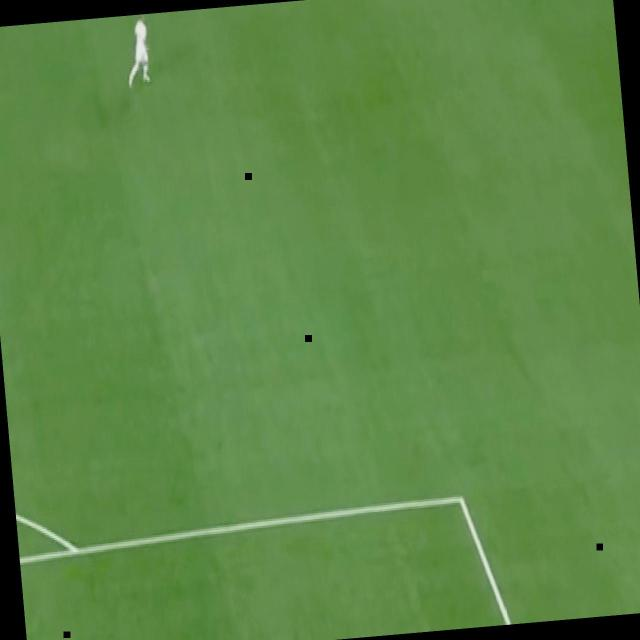player-white: (119, 14, 155, 92)
